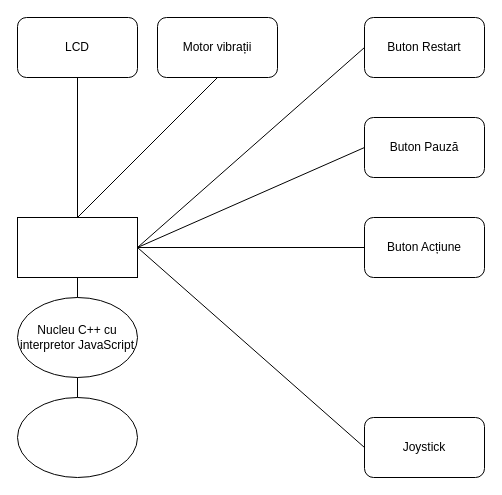
The diagram is 502 pixels wide and 495 high, and some of its shapes have lost their labels. The shapes that lost their labels are listed below. From the top down, each one's centre as x and y in pixels, then its label:
At [77,247]: "RP2040".
At [77,437]: "Logica Jocurilor".
